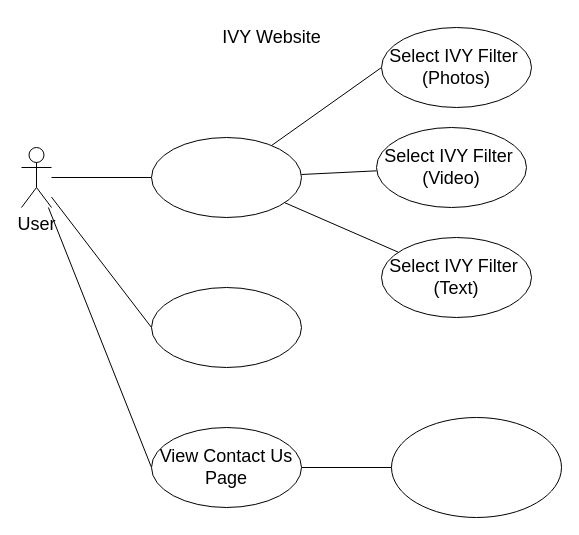
The diagram is 579 pixels wide and 535 high, and some of its shapes have lost their labels. The centre of each missing label's shape, as x and y in pixels:
"Select Product Type" belongs at point (226, 177).
"Use Contact Form to Contact Us" belongs at point (476, 467).
"View About Us Page" belongs at point (226, 327).
